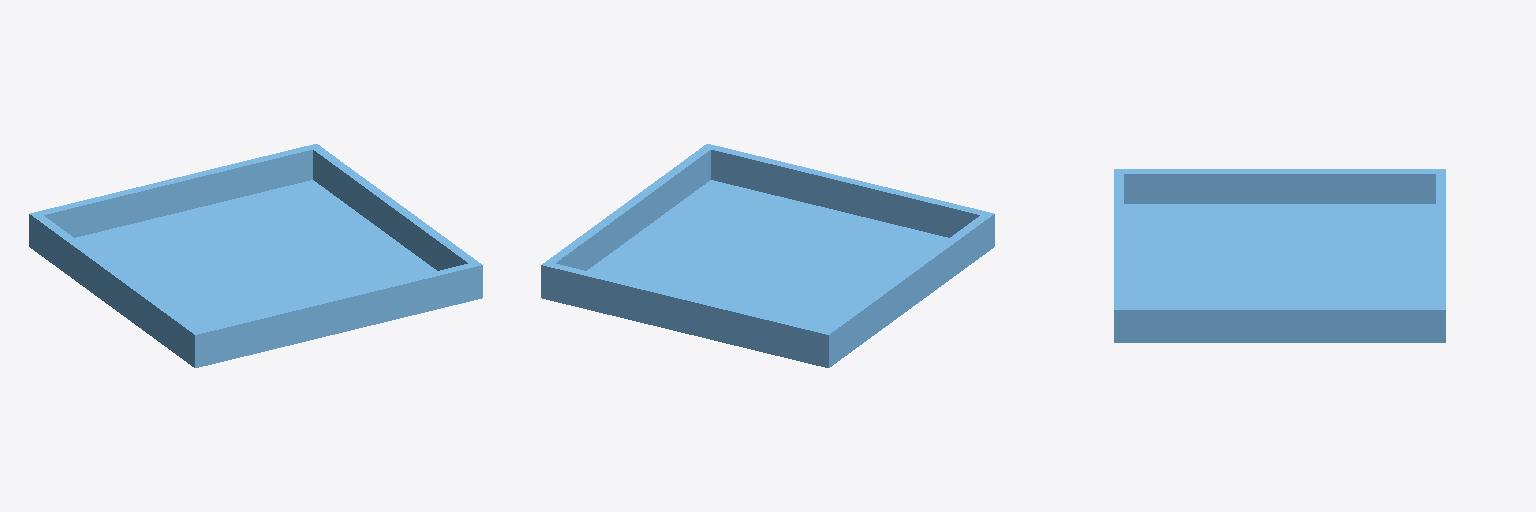
The model's file is ground.obj.
3 views of the same model, side by side, from view 1: azimuth 30°, elevation 25°; view 2: azimuth 150°, elevation 25°; view 3: azimuth 270°, elevation 25° (orthographic).
Visible parts, largest first — view 1: Cube; view 2: Cube; view 3: Cube.
Part boxes in pixels (left/top/right/bottom): Cube: left=29, top=144, right=482, bottom=367; Cube: left=541, top=144, right=994, bottom=367; Cube: left=1114, top=169, right=1445, bottom=342.
Bounding box in the file's own units: 5 × 0.5534 × 5.